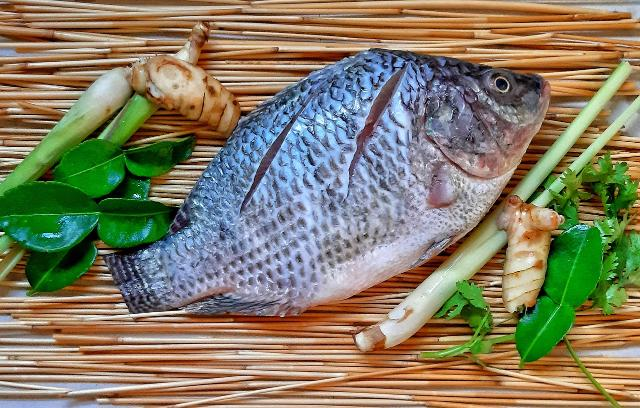Mulut: (524, 58, 572, 130)
Sirip Anal: (176, 289, 312, 341)
Sirip Dada: (409, 148, 467, 224)
Sirip Ekor: (88, 228, 184, 334)
Sirip Perut: (401, 224, 463, 276)
